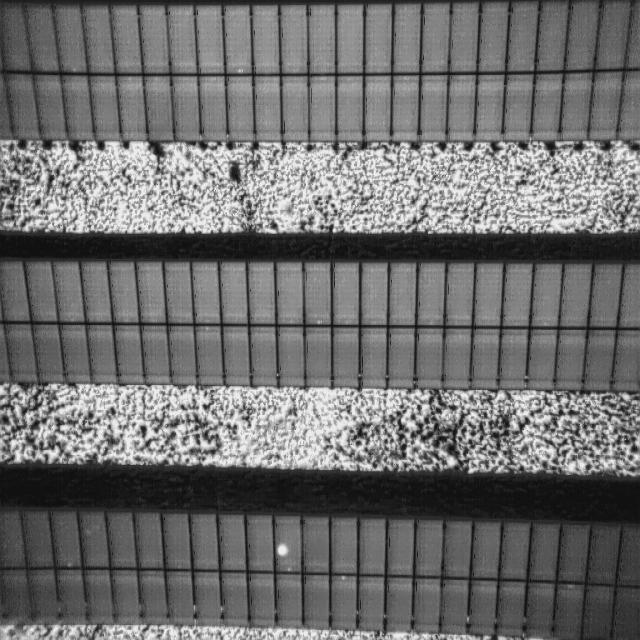hotspot: (278, 541, 290, 555)
